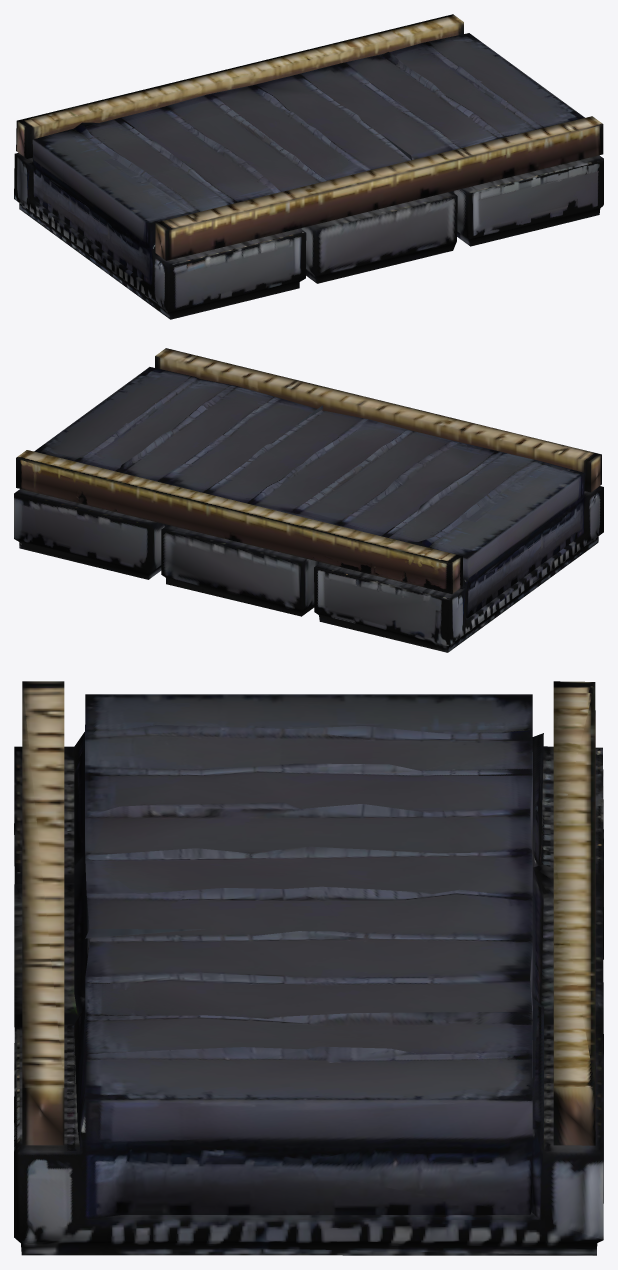
File: 12d5584a-771e-4ac0-a4ee-19dcc2efc2e9.obj
The picture shows the model from 3 angles, top to bottom: view 1: azimuth 30°, elevation 25°; view 2: azimuth 150°, elevation 25°; view 3: azimuth 270°, elevation 25°; orthographic projection. The views are drawn at different scales.
Parts seen in each view (by area): view 1: tripo_node_498982ca-f034-4f58-b74d-1e630c32e908; view 2: tripo_node_498982ca-f034-4f58-b74d-1e630c32e908; view 3: tripo_node_498982ca-f034-4f58-b74d-1e630c32e908.
Boxes of the visible parts, bbox=[...] form: tripo_node_498982ca-f034-4f58-b74d-1e630c32e908: bbox=[14, 14, 603, 319]; tripo_node_498982ca-f034-4f58-b74d-1e630c32e908: bbox=[14, 348, 603, 652]; tripo_node_498982ca-f034-4f58-b74d-1e630c32e908: bbox=[14, 681, 603, 1255].
Size of the model in its own units: 0.9974 by 0.1929 by 0.6027.
Materials: 1 (1 with a texture image).
